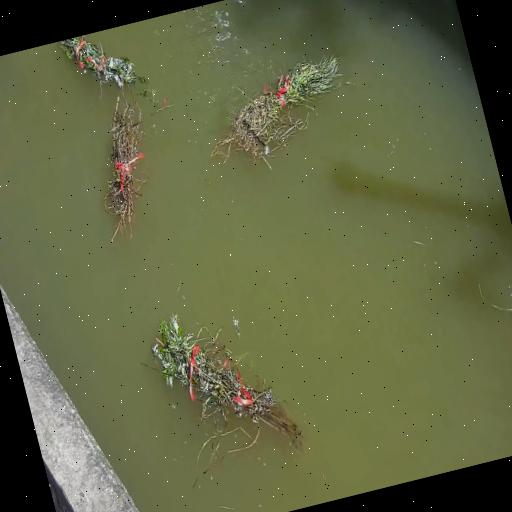twig: (142, 286, 310, 485), (200, 48, 364, 178), (78, 92, 169, 245), (60, 25, 144, 103), (274, 48, 353, 110), (480, 271, 512, 381), (136, 80, 173, 118)
